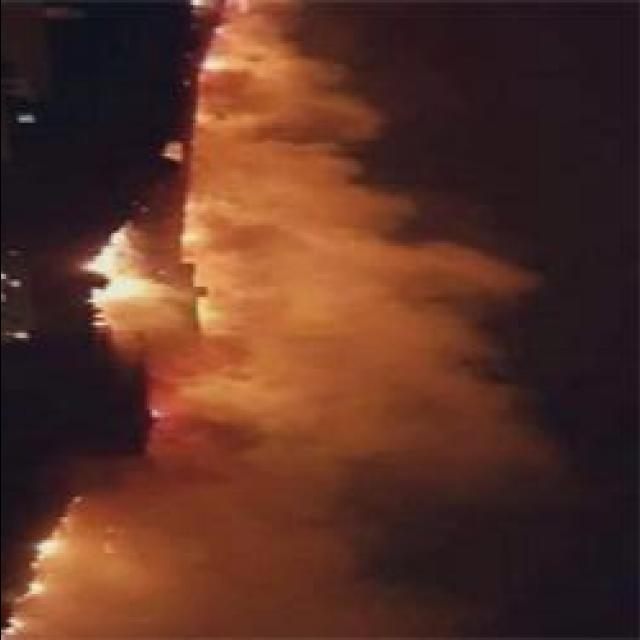fire: (90, 235, 124, 273), (90, 280, 146, 298), (36, 538, 58, 560)
smoke: (302, 240, 525, 368), (225, 537, 481, 640), (188, 252, 296, 479), (252, 90, 374, 280), (322, 368, 548, 470), (66, 557, 240, 640), (187, 114, 267, 240), (237, 0, 335, 100), (148, 426, 252, 498)
